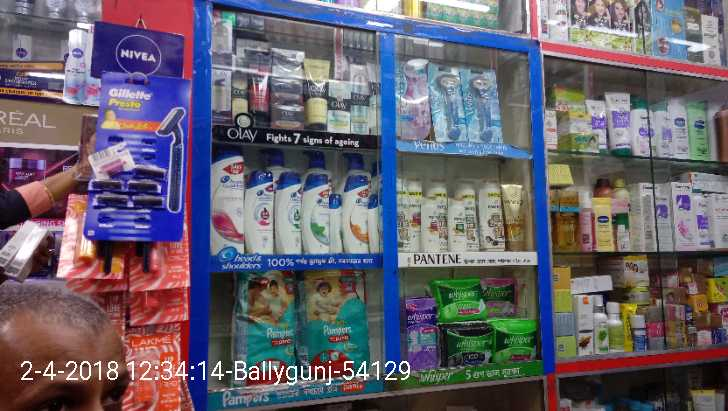gillete: (90, 69, 181, 240)
venus: (463, 65, 499, 142), (398, 59, 428, 137), (432, 65, 461, 140)
